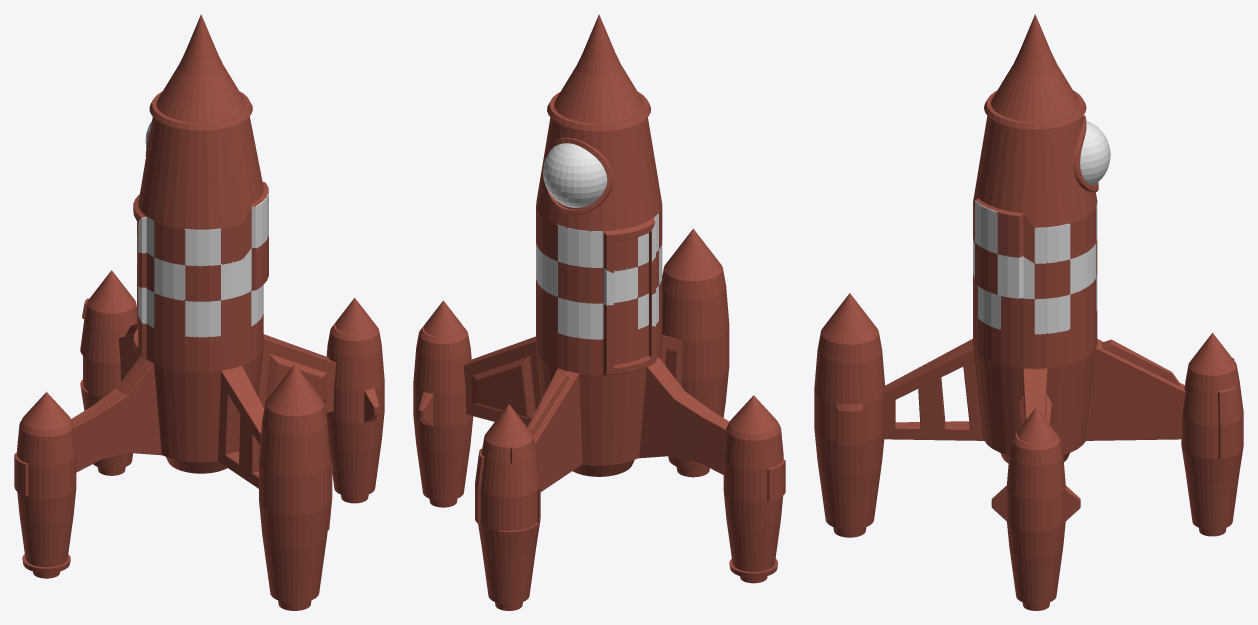
The model's file is SpaceShip.fbx.
The picture shows the model from 3 angles, left to right: view 1: azimuth 30°, elevation 25°; view 2: azimuth 150°, elevation 25°; view 3: azimuth 270°, elevation 25°; orthographic projection.
Parts seen in each view (by area): view 1: Ship, rocket04.001, rocket04, rocket03, head, rocket01; view 2: Ship, rocket01, rocket04, rocket04.001, rocket03, head, Sphere; view 3: Ship, rocket04.001, rocket04, rocket01, head, Sphere.
Part boxes in pixels (x1,y1,x2,y2): Ship: (71,116,336,488); rocket04.001: (259,364,332,610); rocket04: (326,298,384,503); rocket03: (14,392,76,578); head: (149,14,252,130); rocket01: (80,270,136,475); Ship: (463,117,729,491); rocket01: (475,404,540,610); rocket04: (413,300,473,507); rocket04.001: (662,228,729,477); rocket03: (723,395,785,583); head: (547,14,650,131); Sphere: (543,143,607,207); Ship: (884,115,1185,463); rocket04.001: (814,293,885,537); rocket04: (991,407,1080,610); rocket01: (1181,333,1243,536); head: (984,14,1086,129); Sphere: (1080,121,1110,185).
Size of the model in its own units: 799 by 1100 by 828.
